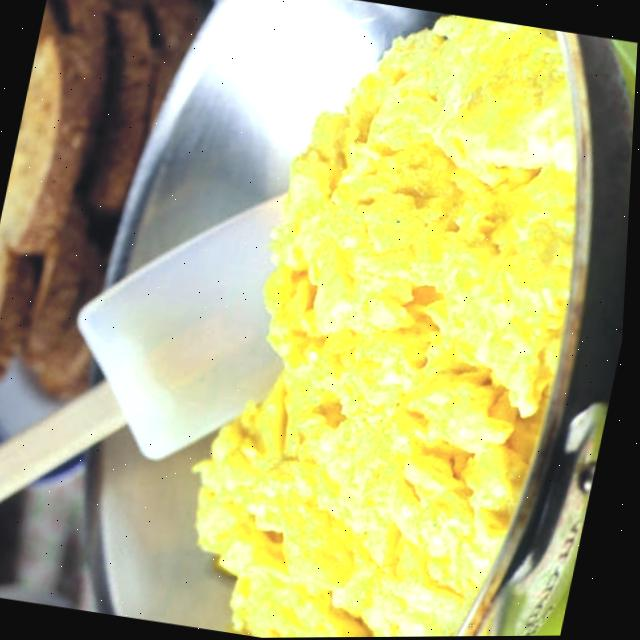鸡蛋料理: (44, 0, 640, 640)
